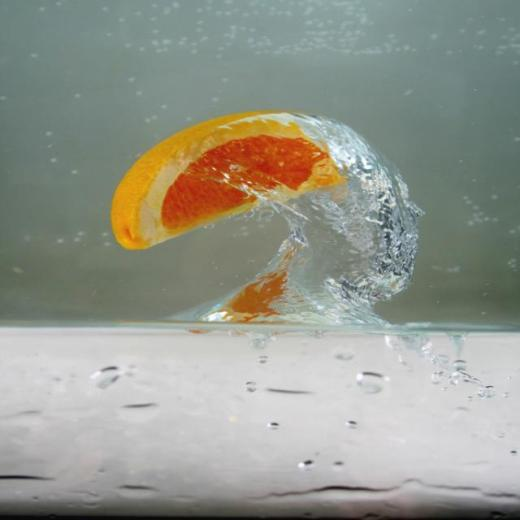Grape: (115, 104, 358, 245)
